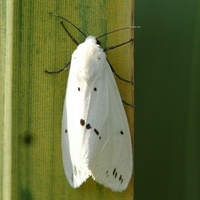insect: (55, 14, 132, 191)
